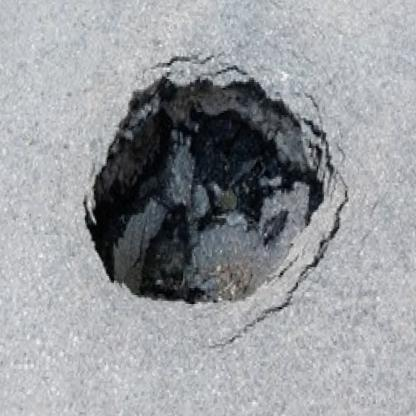pothole: (77, 51, 347, 318)
